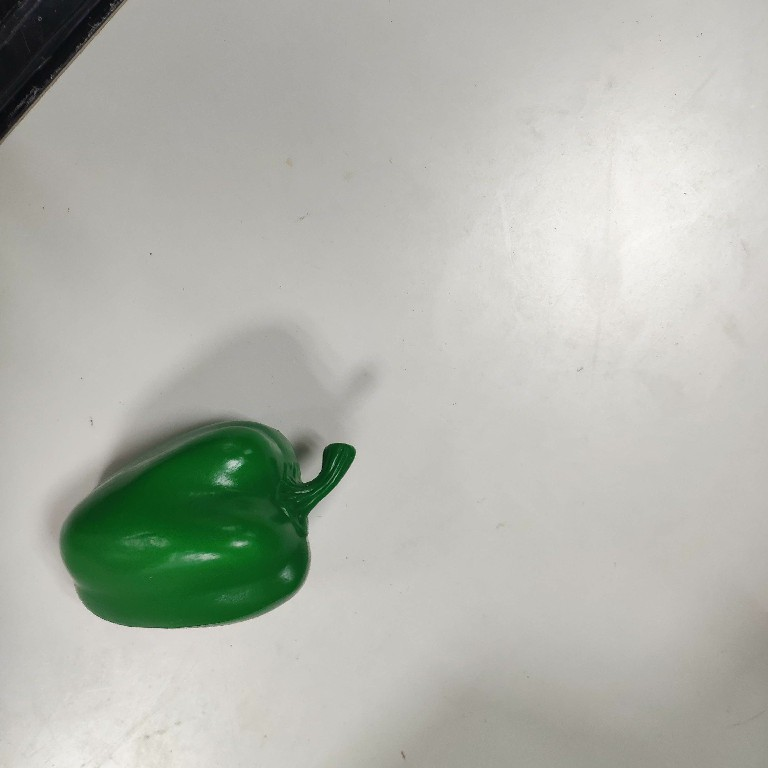fruit_pepper: (55, 416, 359, 633)
